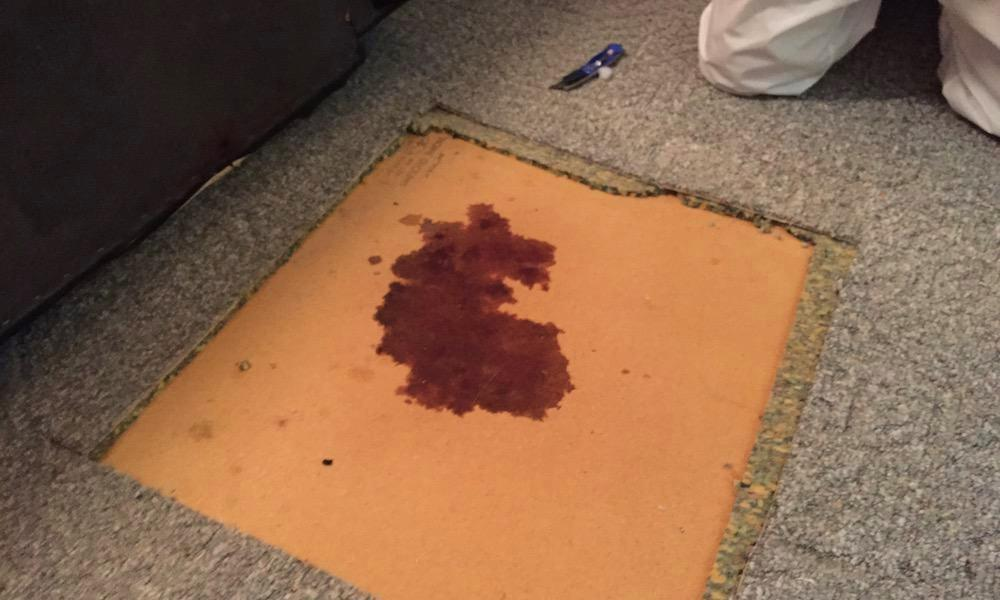Bloodstain-Detection: (381, 210, 575, 416)
